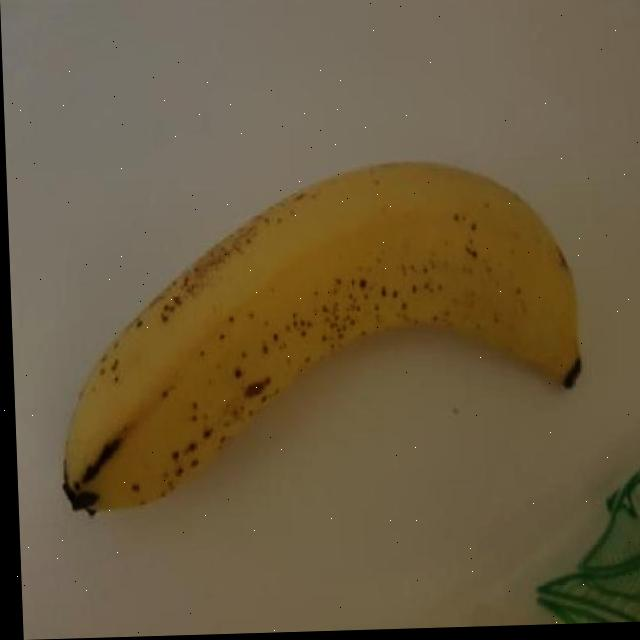banana: (47, 151, 591, 520)
